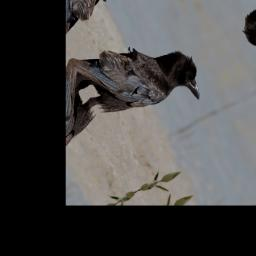Crow: (70, 9, 211, 144)
